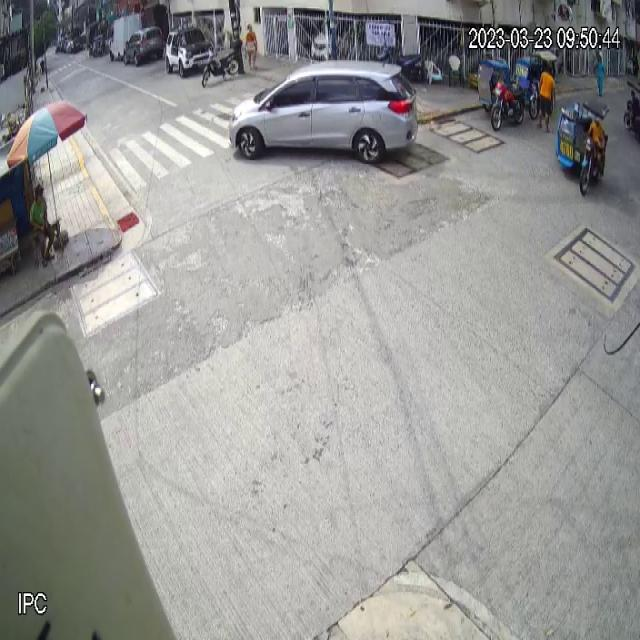Car: (227, 59, 419, 165)
Tricycle: (556, 97, 610, 195), (477, 57, 526, 130)
